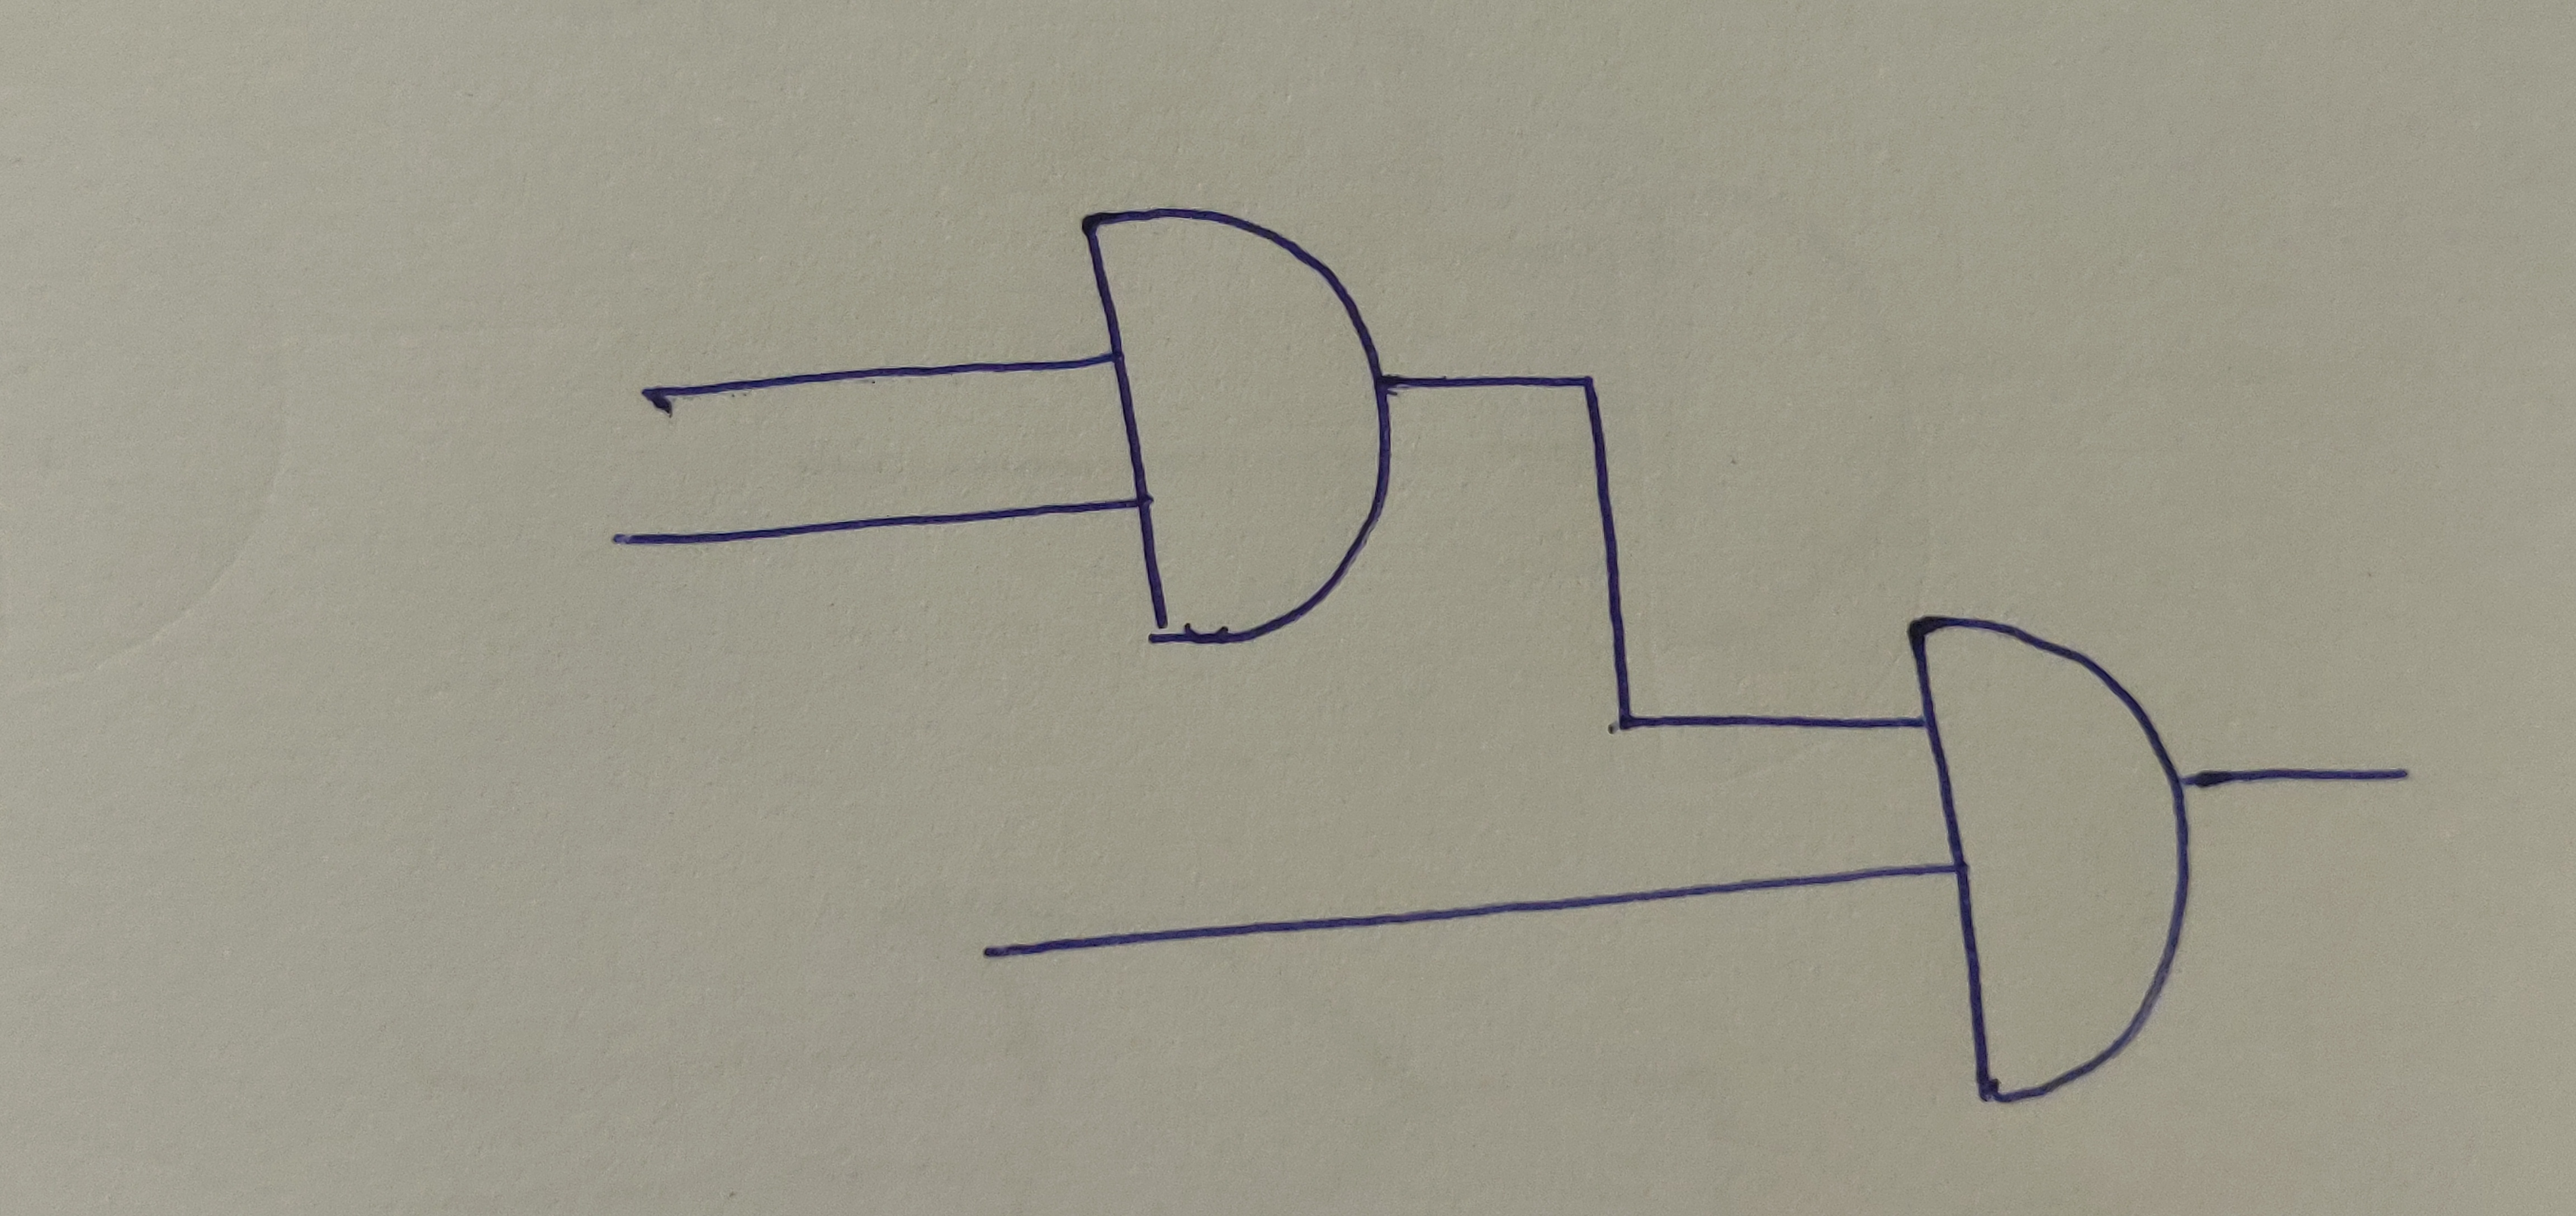and: (1074, 202, 1398, 651), (1907, 613, 2193, 1106)
